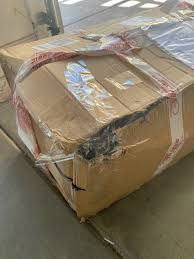damaged package: (69, 98, 169, 161), (55, 157, 86, 191)
